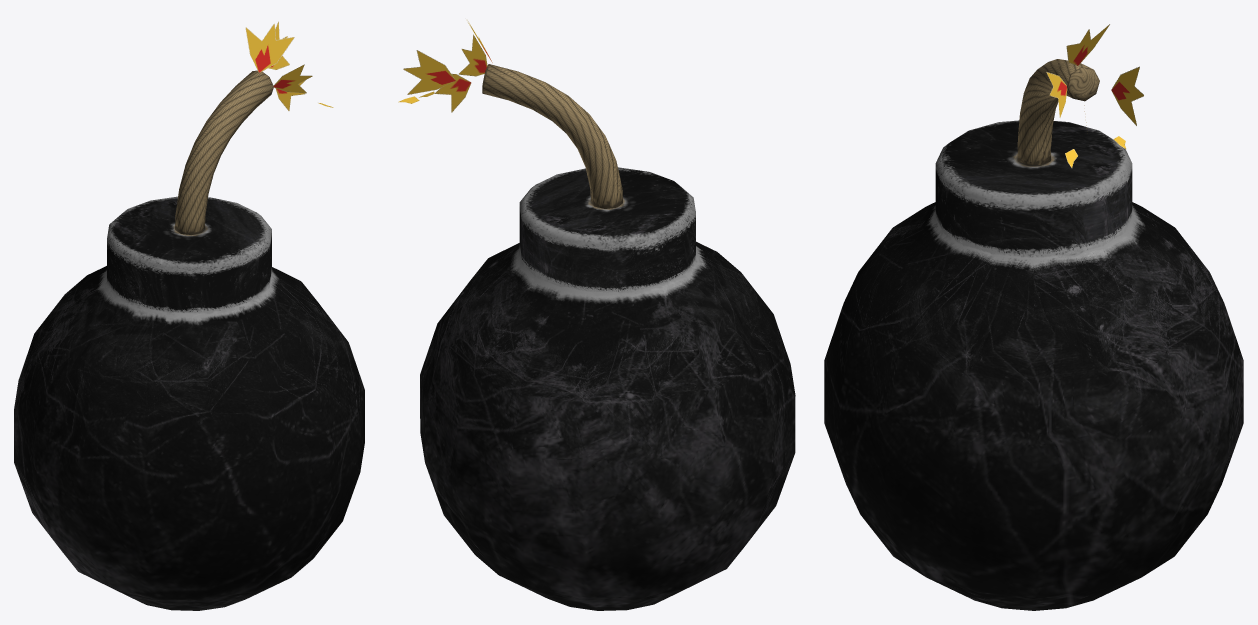
Rendered from bomb_000027.obj.
The picture shows the model from 3 angles, left to right: view 1: azimuth 30°, elevation 25°; view 2: azimuth 150°, elevation 25°; view 3: azimuth 270°, elevation 25°; orthographic projection. The views are drawn at different scales.
Parts seen in each view (by area): view 1: Sphere, NurbsPath, Plane_5.001_Mesh.001; view 2: Sphere, NurbsPath, Plane_5.001_Mesh.001; view 3: Sphere, NurbsPath, Plane_5.001_Mesh.001.
Part boxes in pixels (x1,y1,x2,y2): Sphere: (14, 196, 364, 610); NurbsPath: (175, 70, 273, 234); Plane_5.001_Mesh.001: (245, 21, 333, 110); Sphere: (420, 167, 795, 610); NurbsPath: (482, 64, 622, 208); Plane_5.001_Mesh.001: (398, 20, 492, 112); Sphere: (824, 120, 1243, 610); NurbsPath: (1017, 59, 1099, 165); Plane_5.001_Mesh.001: (1046, 24, 1143, 167).
Bounding box in the file's own units: 0.8061 × 1.27 × 0.7842.
Materials: 1 (1 with a texture image).
